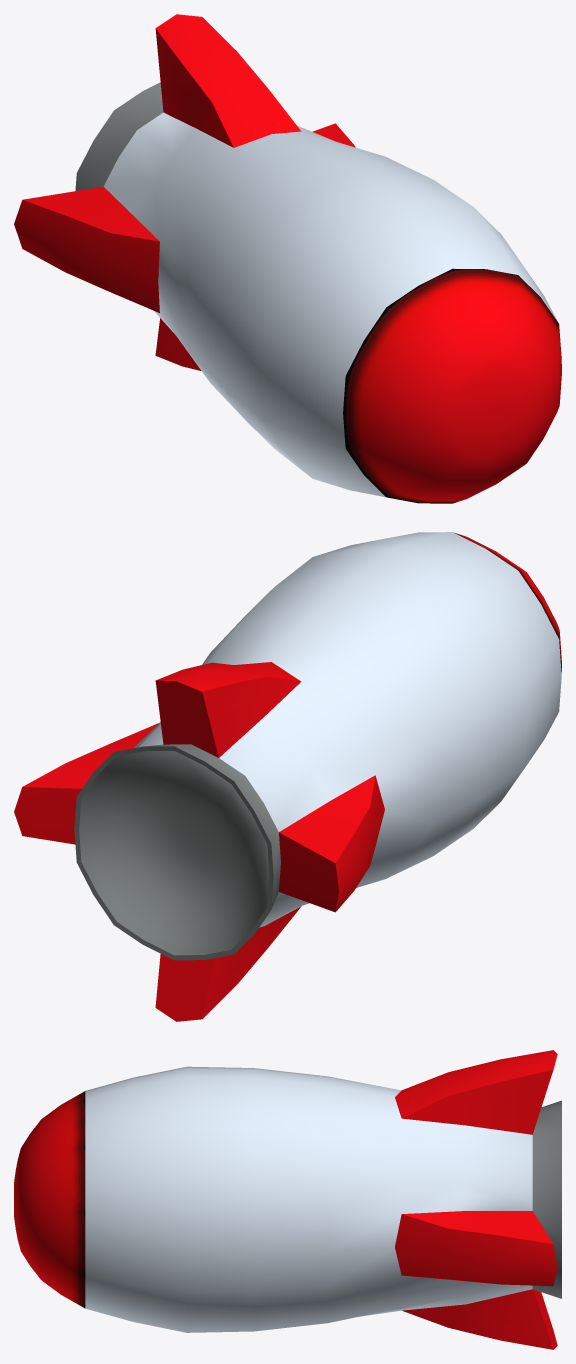
File: MisselBasico.fbx
The picture shows the model from 3 angles, top to bottom: view 1: azimuth 30°, elevation 25°; view 2: azimuth 150°, elevation 25°; view 3: azimuth 270°, elevation 25°; orthographic projection. The views are drawn at different scales.
Parts seen in each view (by area): view 1: Cylinder; view 2: Cylinder; view 3: Cylinder.
Boxes of the visible parts, x1=… form: Cylinder: x1=14, y1=14, x2=561, y2=503; Cylinder: x1=14, y1=532, x2=561, y2=1021; Cylinder: x1=14, y1=1050, x2=561, y2=1349.
Bounding box in the file's own units: 28.52 × 28.55 × 48.63.
